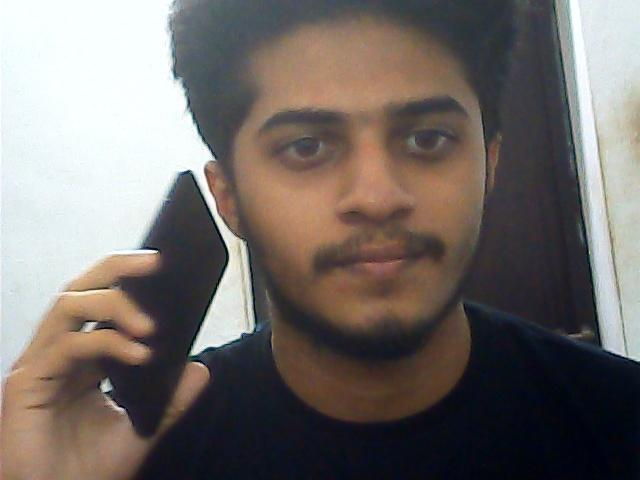PhoneUse: (114, 160, 226, 442)
SafeDriving: (386, 106, 470, 168), (264, 117, 354, 172)
